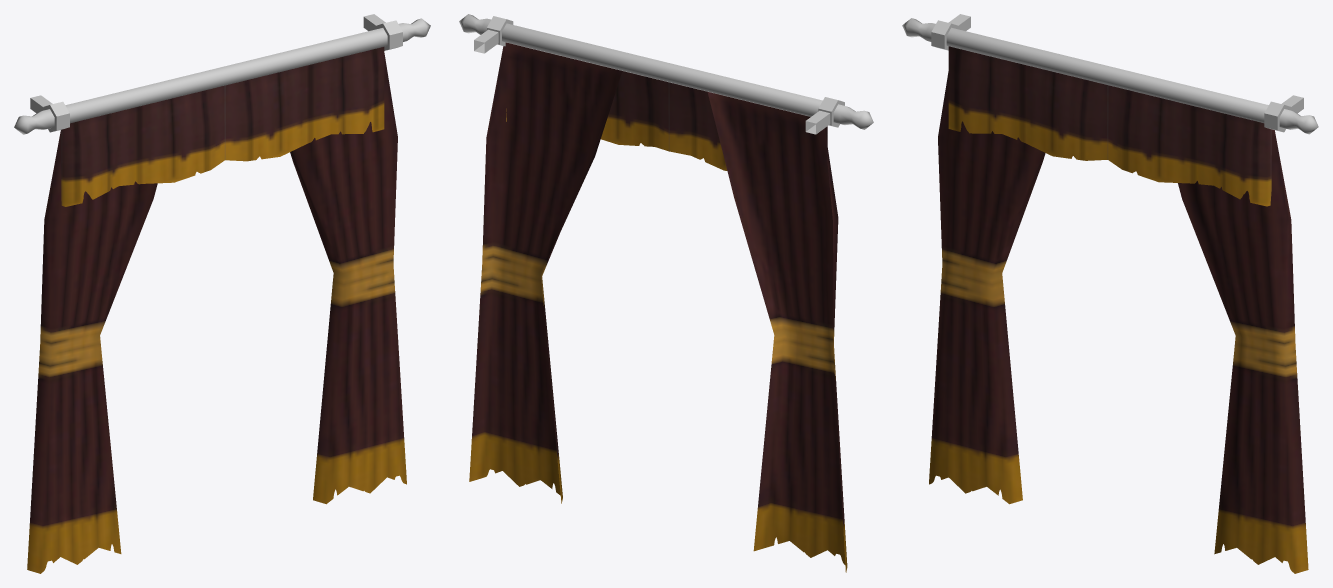
File: Curtain_1C.fbx
The picture shows the model from 3 angles, left to right: view 1: azimuth 30°, elevation 25°; view 2: azimuth 150°, elevation 25°; view 3: azimuth 330°, elevation 25°; orthographic projection.
Parts seen in each view (by area): view 1: Alpha, polySurface7391; view 2: Alpha, polySurface7391; view 3: Alpha, polySurface7391.
Part boxes in pixels (x1=…): Alpha: x1=27, y1=47, x2=406, y2=573; polySurface7391: x1=14, y1=14, x2=430, y2=134; Alpha: x1=469, y1=42, x2=847, y2=572; polySurface7391: x1=459, y1=14, x2=873, y2=134; Alpha: x1=929, y1=46, x2=1308, y2=573; polySurface7391: x1=902, y1=14, x2=1318, y2=134.
Bounding box in the file's own units: 3.14 × 3.36 × 0.359.
